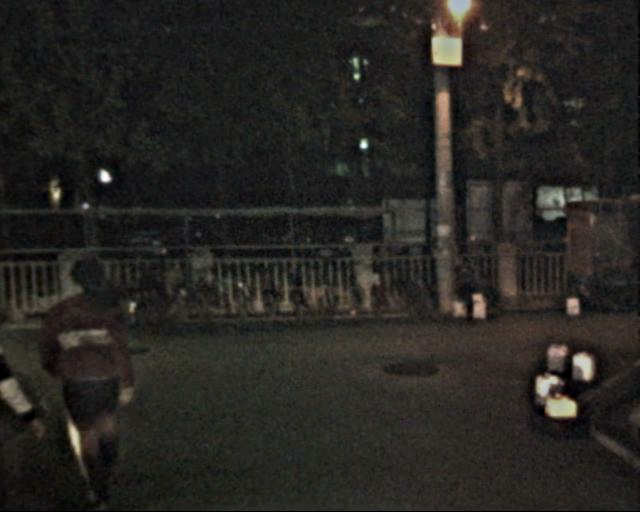person: (44, 250, 151, 502)
